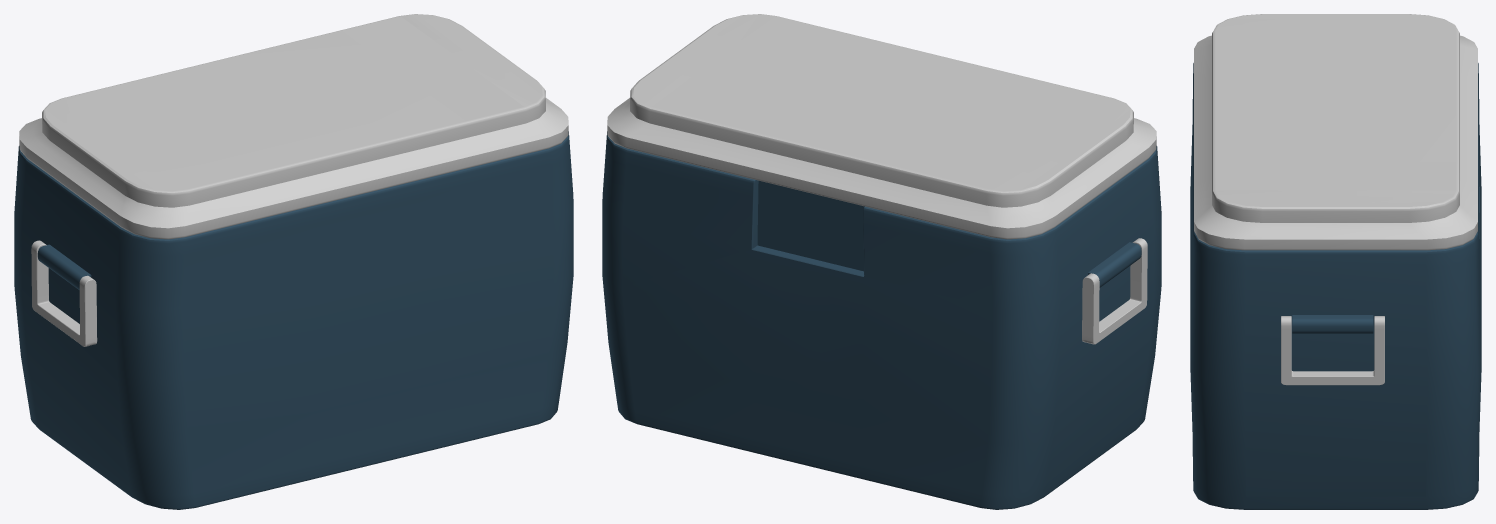
Rendered from cooler_big.fbx.
3 views of the same model, side by side, from view 1: azimuth 30°, elevation 25°; view 2: azimuth 150°, elevation 25°; view 3: azimuth 270°, elevation 25° (orthographic). The views are drawn at different scales.
Parts seen in each view (by area): view 1: pCube20, pCube21, pCube23, pCube25; view 2: pCube20, pCube21, pCube23, pCube25; view 3: pCube20, pCube21, pCube27, pCube26.
Part boxes in pixels (bbox=[...]): pCube20: bbox=[14, 131, 573, 509]; pCube21: bbox=[19, 14, 568, 239]; pCube23: bbox=[31, 240, 97, 346]; pCube25: bbox=[37, 244, 91, 289]; pCube20: bbox=[602, 131, 1161, 509]; pCube21: bbox=[607, 14, 1156, 239]; pCube23: bbox=[1082, 238, 1147, 344]; pCube25: bbox=[1088, 242, 1141, 287]; pCube20: bbox=[1190, 63, 1481, 509]; pCube21: bbox=[1194, 14, 1477, 250]; pCube27: bbox=[1281, 316, 1384, 385]; pCube26: bbox=[1292, 315, 1373, 333].
Bounding box in the file's own units: 18.3 × 11.44 × 10.02.
